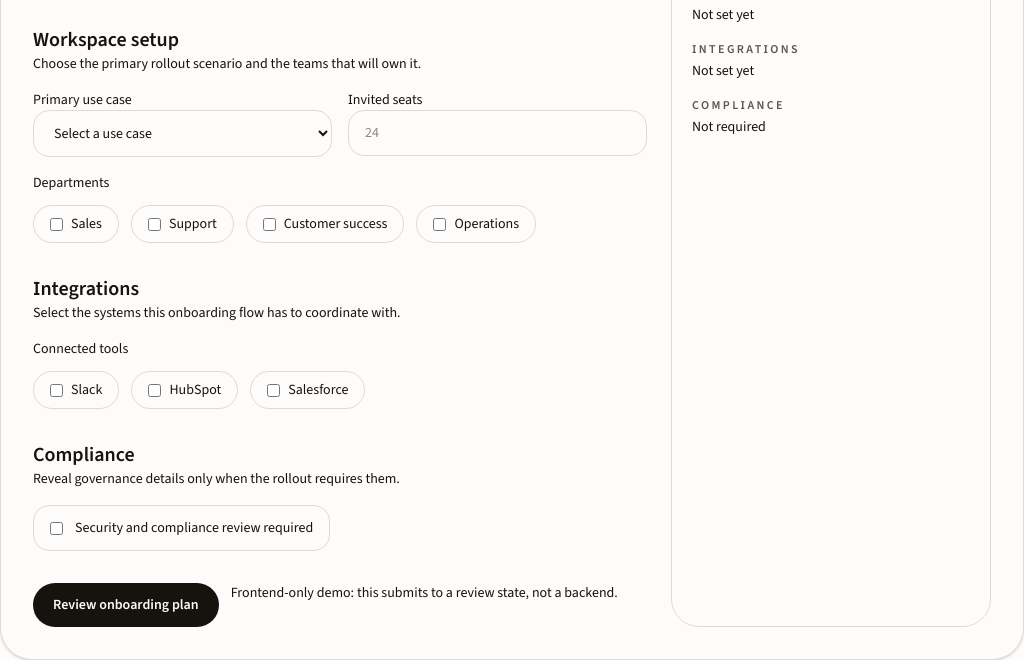
WorkspaceOnboardingDemo › reveals compliance inputs when advanced requirements are enabled
(page scrolled)
Click the checkbox labelled "Security and compliance review required": [56, 528] box [50,522,63,534]
(page scrolled)
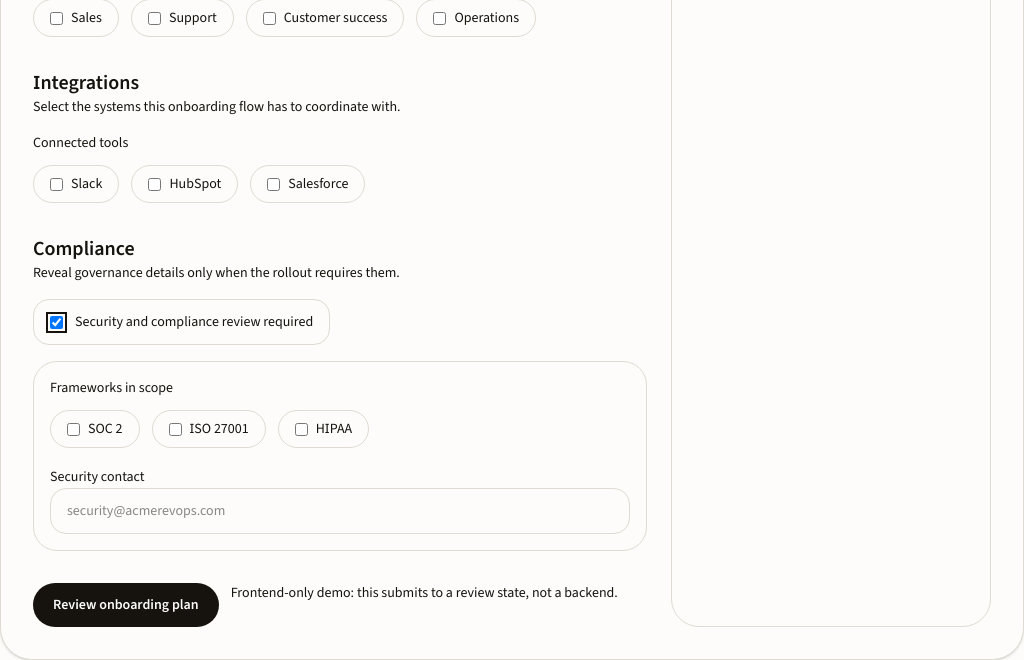
Now the element labelled "Frameworks in scope SOC 2 ISO 27001 HIPAA" is shown, box [50,378,369,448]
Now the field labelled "Security contact" is shown, box [50,488,630,534]
